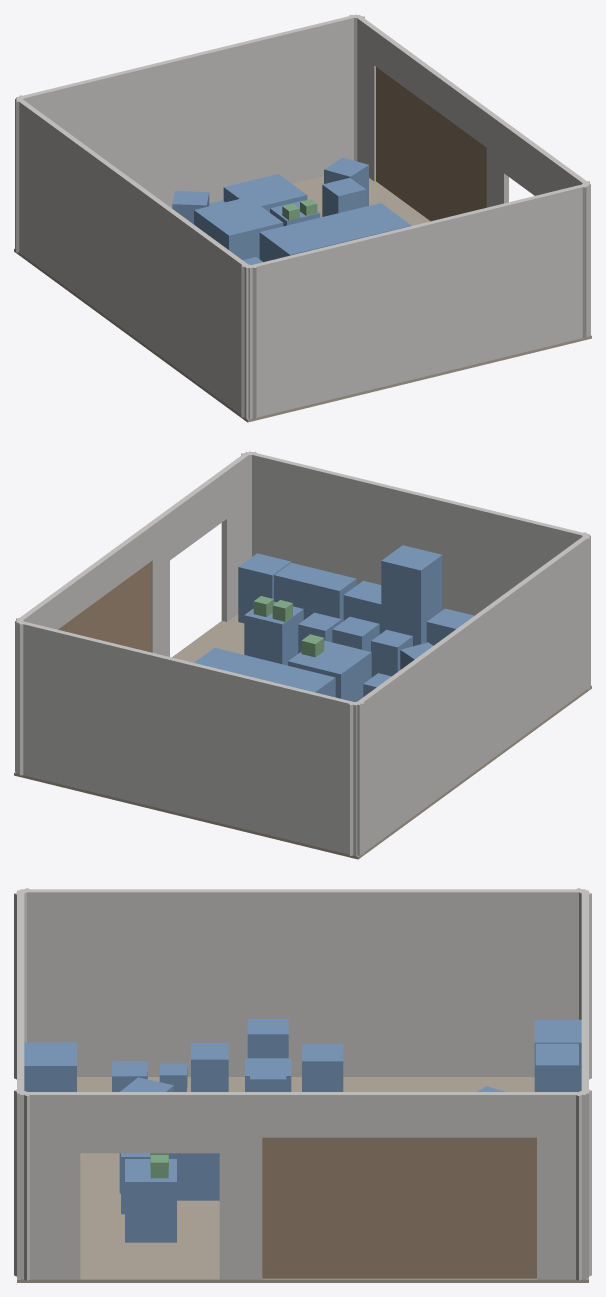
The model's file is room_063.glb.
3 views of the same model, one above another, from view 1: azimuth 30°, elevation 25°; view 2: azimuth 150°, elevation 25°; view 3: azimuth 270°, elevation 25° (orthographic). The views are drawn at different scales.
Visible parts, largest first — view 1: shell_wall_2_s0, shell_wall_6_s0, shell_wall_0_s0, shell_wall_4_door, shell_wall_4_s3, obj_019, shell_floor, obj_027, shell_wall_4_s4, shell_wall_4_s1, obj_033, shell_wall_4_s2 (+8 smaller); view 2: shell_wall_6_s0, shell_wall_0_s0, shell_wall_2_s0, obj_006, shell_wall_4_s3, shell_wall_4_door, shell_floor, shell_wall_4_s0, obj_000, shell_wall_4_s1, obj_019, obj_002 (+11 smaller); view 3: shell_wall_0_s0, shell_wall_4_door, shell_floor, shell_wall_4_s3, shell_wall_4_s0, shell_wall_4_s1, shell_wall_4_s2, shell_wall_4_s4, obj_013, obj_006, shell_wall_2_s0, shell_wall_6_s0 (+15 smaller).
Boxes of the visible parts, x1,y1,x2,y2 form: shell_wall_2_s0: [247, 184, 589, 419]; shell_wall_6_s0: [16, 14, 357, 208]; shell_wall_0_s0: [15, 97, 250, 418]; shell_wall_4_door: [376, 67, 486, 221]; shell_wall_4_s3: [374, 29, 491, 147]; obj_019: [259, 203, 411, 261]; shell_floor: [14, 176, 591, 422]; obj_027: [194, 197, 283, 259]; shell_wall_4_s4: [355, 15, 379, 181]; shell_wall_4_s1: [504, 124, 565, 195]; obj_033: [223, 174, 307, 212]; shell_wall_4_s2: [486, 111, 508, 207]; shell_wall_6_s0: [16, 621, 358, 856]; shell_wall_0_s0: [355, 534, 590, 855]; shell_wall_2_s0: [247, 451, 589, 615]; obj_006: [381, 545, 442, 646]; shell_wall_4_s3: [35, 524, 152, 629]; shell_wall_4_door: [58, 562, 150, 652]; shell_floor: [14, 614, 591, 859]; shell_wall_4_s0: [221, 452, 250, 621]; obj_000: [274, 562, 356, 622]; shell_wall_4_s1: [165, 470, 226, 560]; obj_019: [194, 647, 335, 697]; obj_002: [288, 640, 371, 701]; shell_wall_0_s0: [20, 889, 585, 1076]; shell_wall_4_door: [262, 1137, 536, 1278]; shell_floor: [17, 1077, 588, 1282]; shell_wall_4_s3: [262, 1092, 536, 1137]; shell_wall_4_s0: [20, 1092, 80, 1279]; shell_wall_4_s1: [80, 1092, 219, 1153]; shell_wall_4_s2: [219, 1092, 262, 1279]; shell_wall_4_s4: [537, 1092, 585, 1279]; obj_013: [125, 1159, 176, 1242]; obj_006: [24, 1042, 76, 1091]; shell_wall_2_s0: [17, 890, 24, 1278]; shell_wall_6_s0: [581, 890, 588, 1278].
Size of the model in its own units: 6.77 by 2.85 by 7.94.
